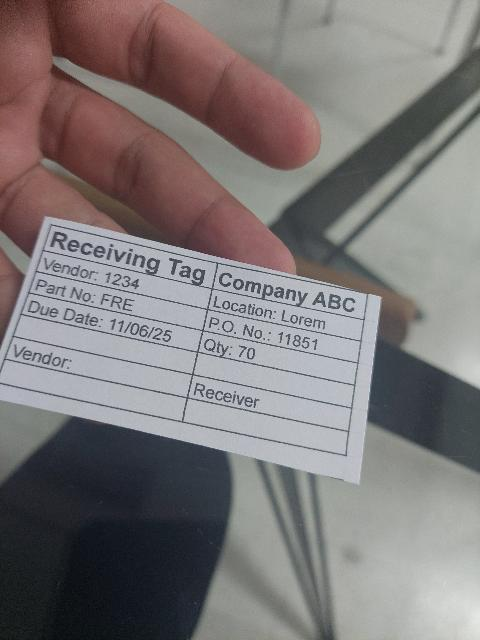PO no: (205, 310, 362, 362)
part no: (28, 271, 209, 332)
qty: (197, 331, 360, 385)
tags: (0, 218, 381, 487)
